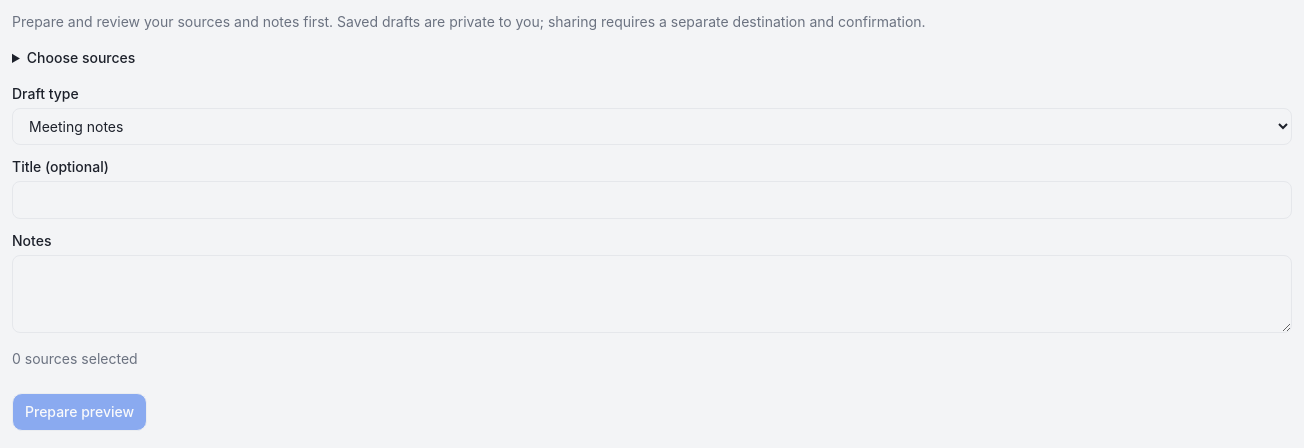
Test case: knowledge work review and privacy flows › previews without saving, requires explicit confirmation, and resets confirmation after editing
The image size is (1304, 448).
Type "Meeting notes" into the text box labelled "Notes" at (652, 294), box [12,255,1292,333]
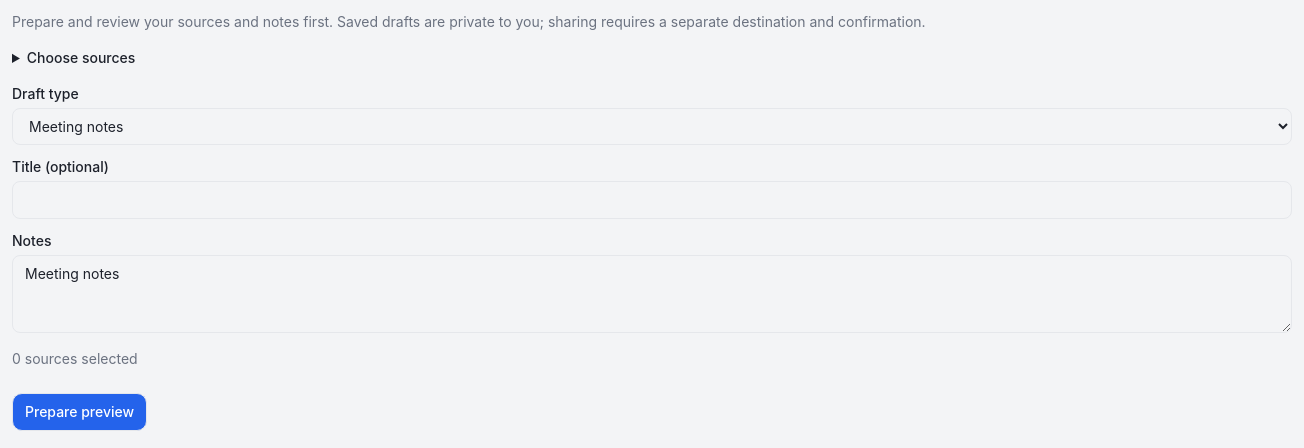
Click the button "Prepare preview" at (80, 412), box [12,393,147,431]
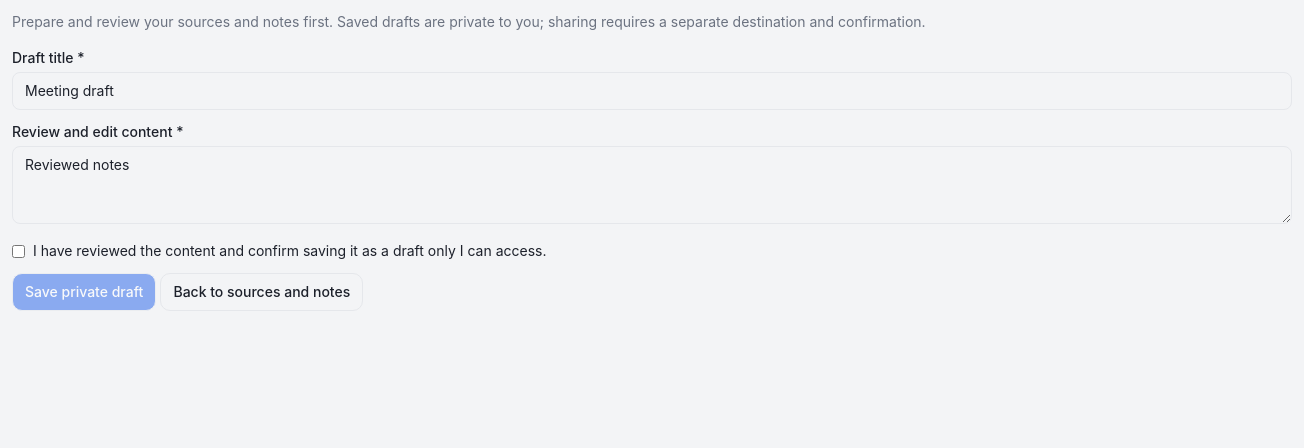
Result: the text box labelled "Review and edit content *" is shown at [12,146,1292,224]
Result: the button "Save private draft" is disabled at [12,273,156,311]
Click the checkbox labelled "confirm saving it" at (18, 252), box [12,245,25,258]
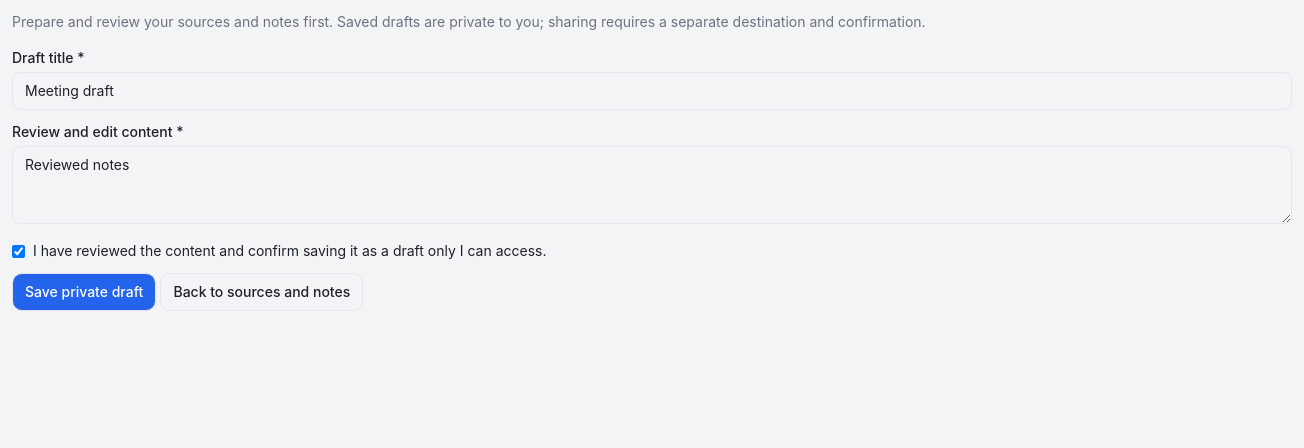
Result: the button "Save private draft" is enabled at [12,273,156,311]
Replace the text in the text box labelled "Review and edit content *" with "Corrected notes" at (652, 185), box [12,146,1292,224]
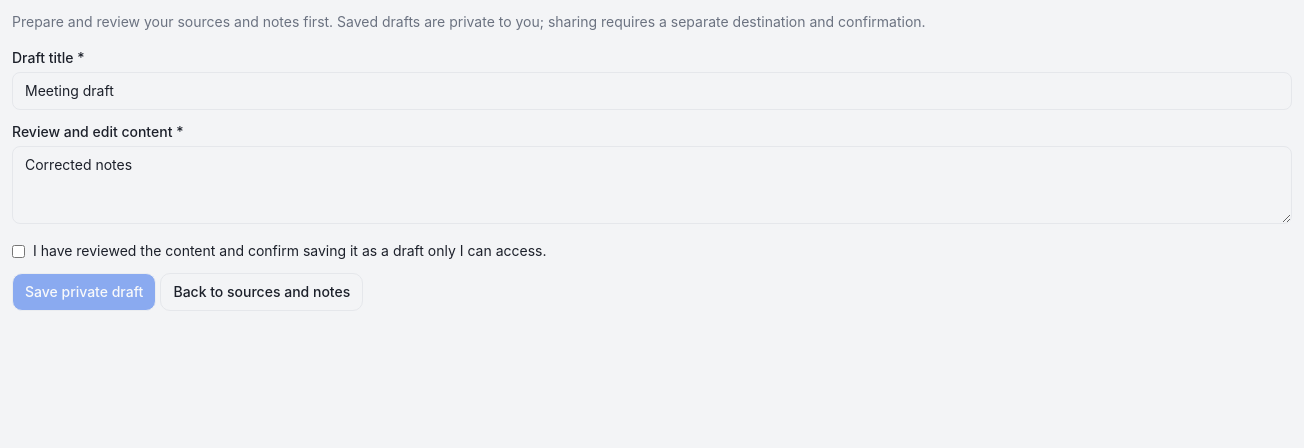
Result: the button "Save private draft" is disabled at [12,273,156,311]
Click the checkbox labelled "confirm saving it" at (18, 252), box [12,245,25,258]
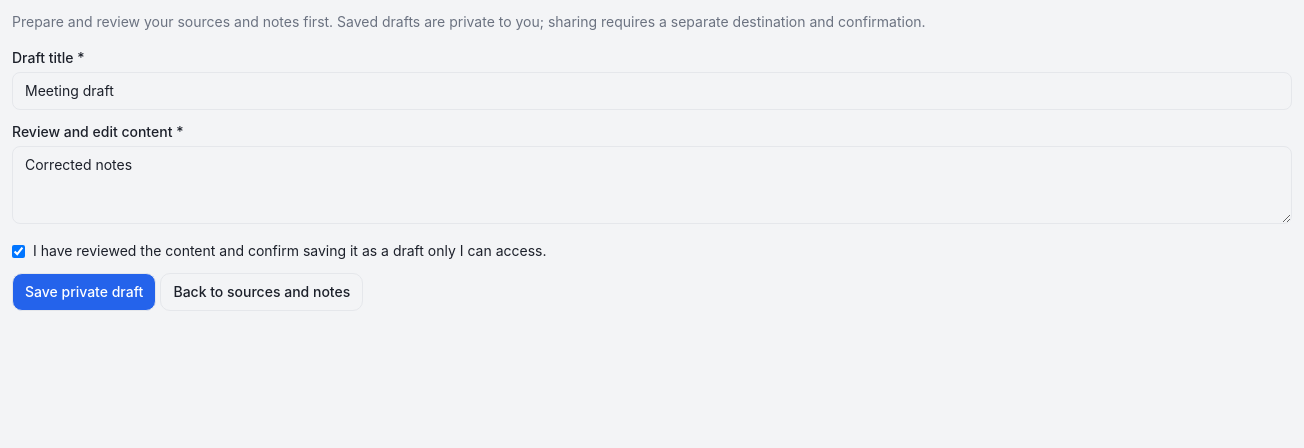
Click the button "Save private draft" at (84, 292), box [12,273,156,311]
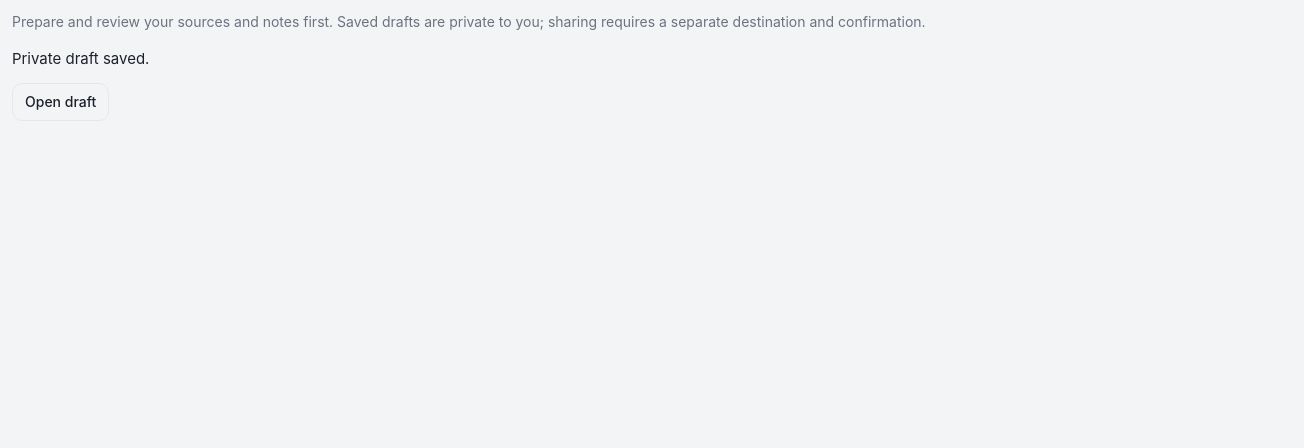
Result: the text "Private draft saved." is shown at [12,49,150,68]
